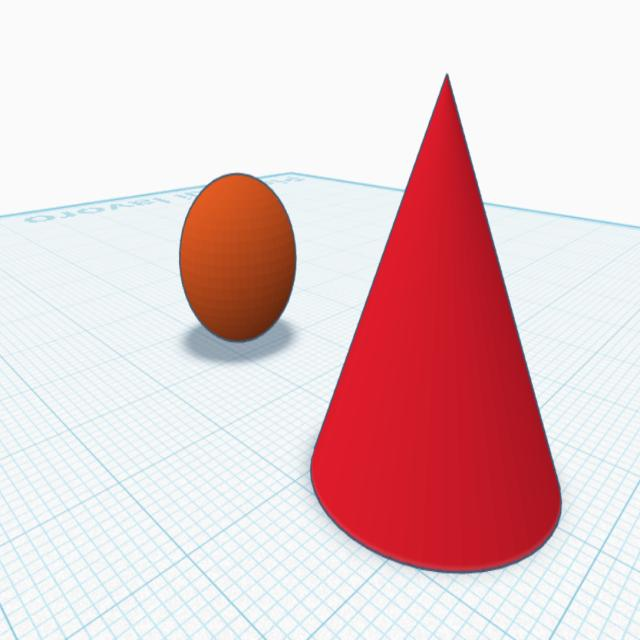cone: (305, 65, 566, 576)
sphere: (174, 168, 301, 348)
